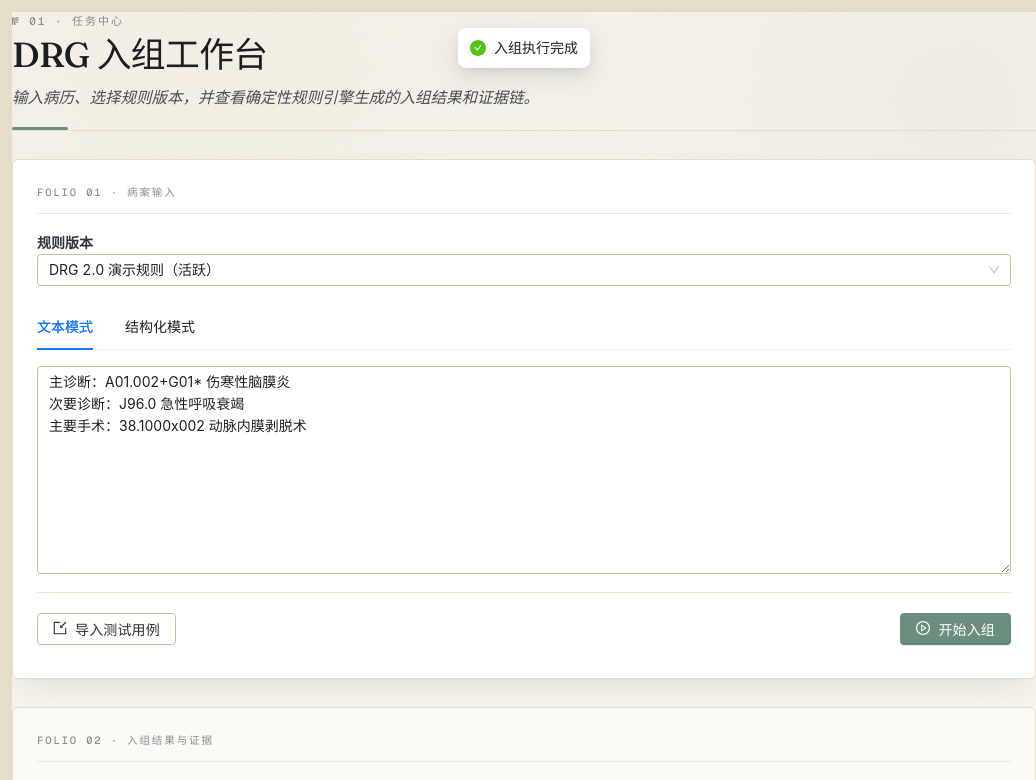
Test: DRGGrouping › shows parsed fields after execution
Expected: the text "DRG 2.0 演示规则（活跃）" is shown, x1=49 y1=261 x2=220 y2=278
Click the button "开始入组": (956, 629) x1=900 y1=613 x2=1011 y2=645
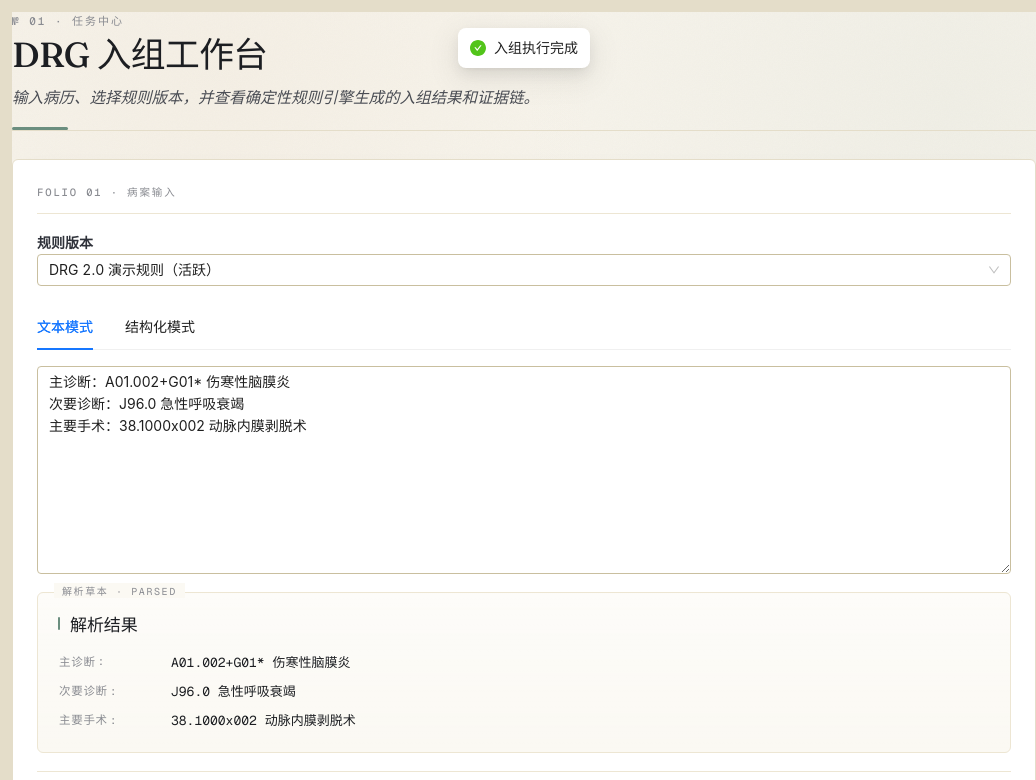
Expected: the text box "急性呼吸衰竭" is shown, x1=37 y1=366 x2=1011 y2=574
Expected: the heading "解析结果" is shown, x1=70 y1=614 x2=138 y2=635
